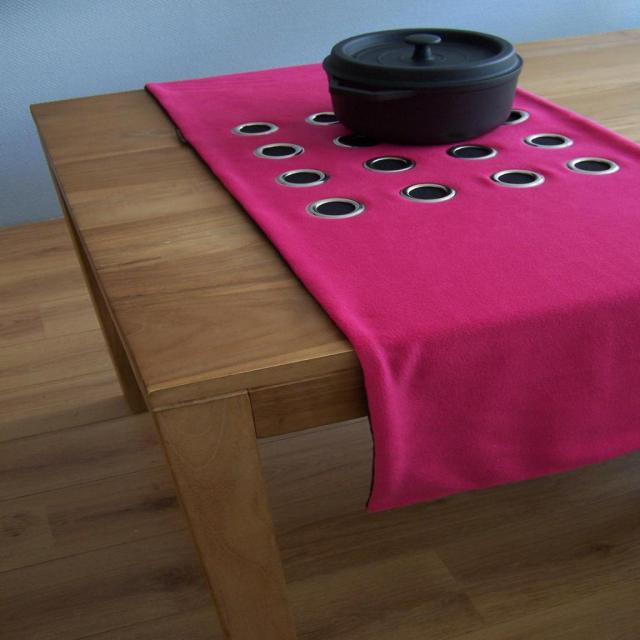Table: (103, 25, 640, 601)
